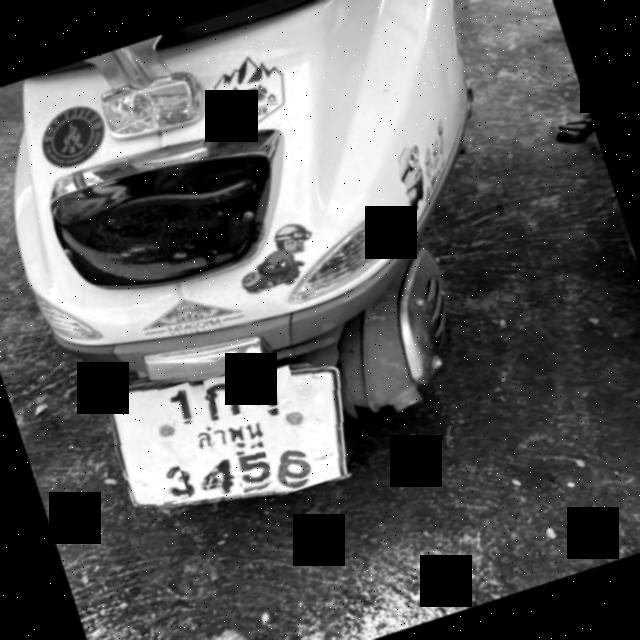letters: (252, 365, 300, 412), (148, 452, 189, 506), (233, 448, 276, 492), (276, 438, 317, 484), (197, 448, 240, 488), (163, 382, 200, 426), (203, 373, 240, 416)
license-plate: (117, 365, 350, 506)
province: (184, 406, 277, 466)
